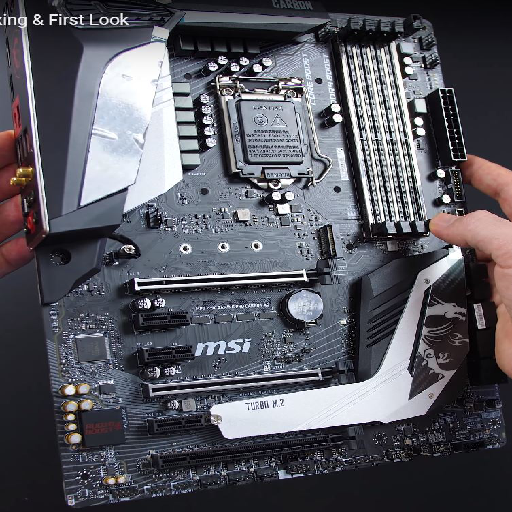CPU: (211, 74, 321, 188)
GPU: (146, 361, 356, 400), (129, 260, 346, 293)
MOTHERBOARD: (18, 7, 510, 499)
RAM: (321, 19, 433, 237)
SSD: (318, 224, 343, 260)
